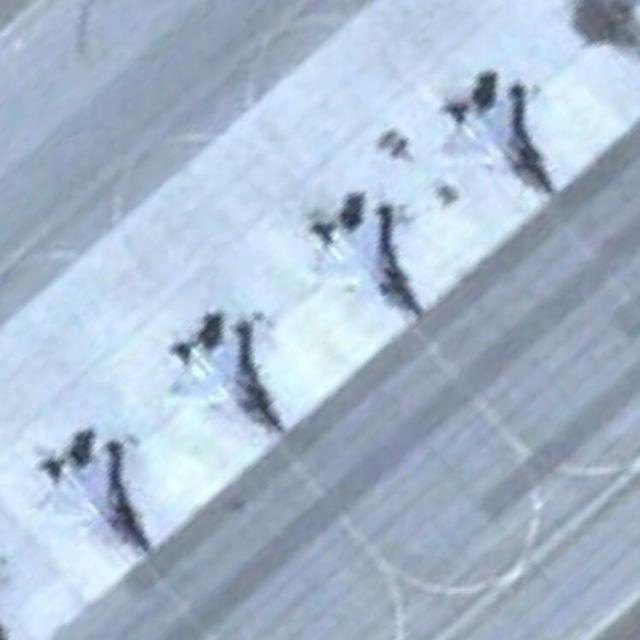fighter jet: (28, 430, 158, 568), (165, 313, 288, 442), (296, 198, 420, 318), (439, 80, 560, 202)
